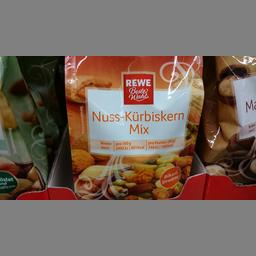nuts: (62, 55, 204, 198)
